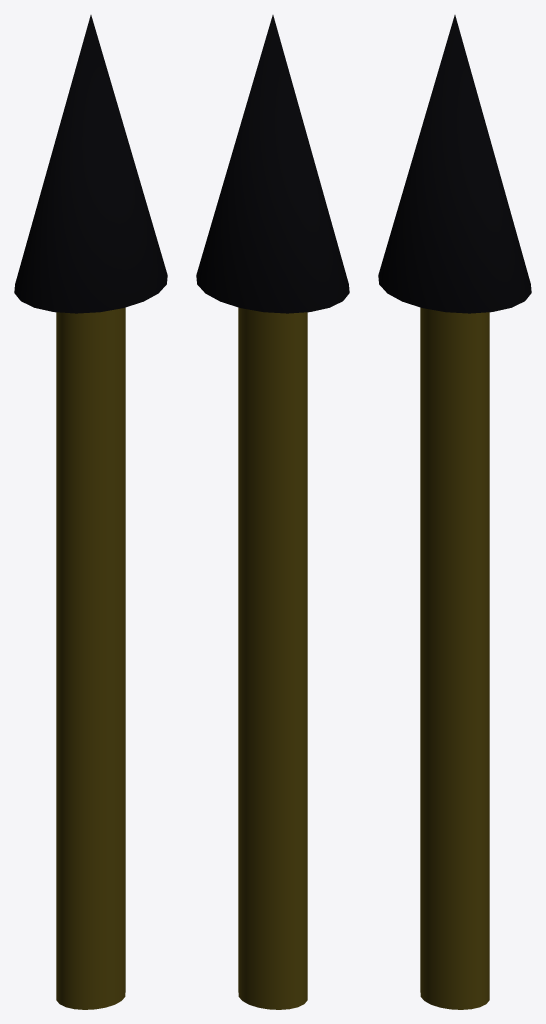
File: SpearModelV2.fbx
3 renders of one model, left to right at view 1: azimuth 30°, elevation 25°; view 2: azimuth 150°, elevation 25°; view 3: azimuth 330°, elevation 25°, orthographic.
Visible parts, largest first — view 1: pCylinder1, Spearhead; view 2: pCylinder1, Spearhead; view 3: pCylinder1, Spearhead.
Part boxes in pixels (x1,y1,x2,y2): pCylinder1: (56, 307, 125, 1009); Spearhead: (14, 15, 167, 313); pCylinder1: (238, 307, 307, 1009); Spearhead: (196, 15, 349, 313); pCylinder1: (420, 307, 489, 1009); Spearhead: (378, 15, 531, 313).
Bounding box in the file's own units: 1.7 × 11.36 × 1.37.
